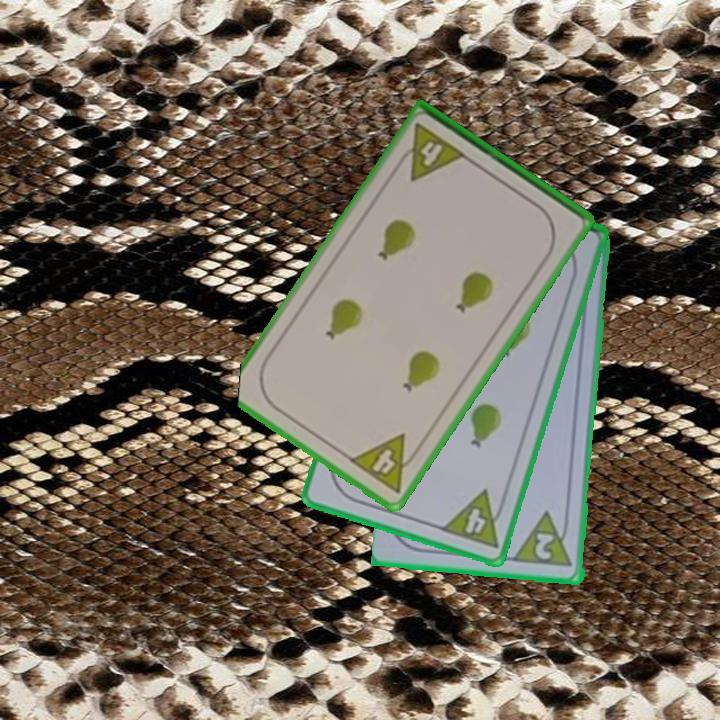2p: (532, 529, 557, 563)
4p: (345, 430, 425, 496), (391, 120, 469, 184), (437, 486, 510, 551)
